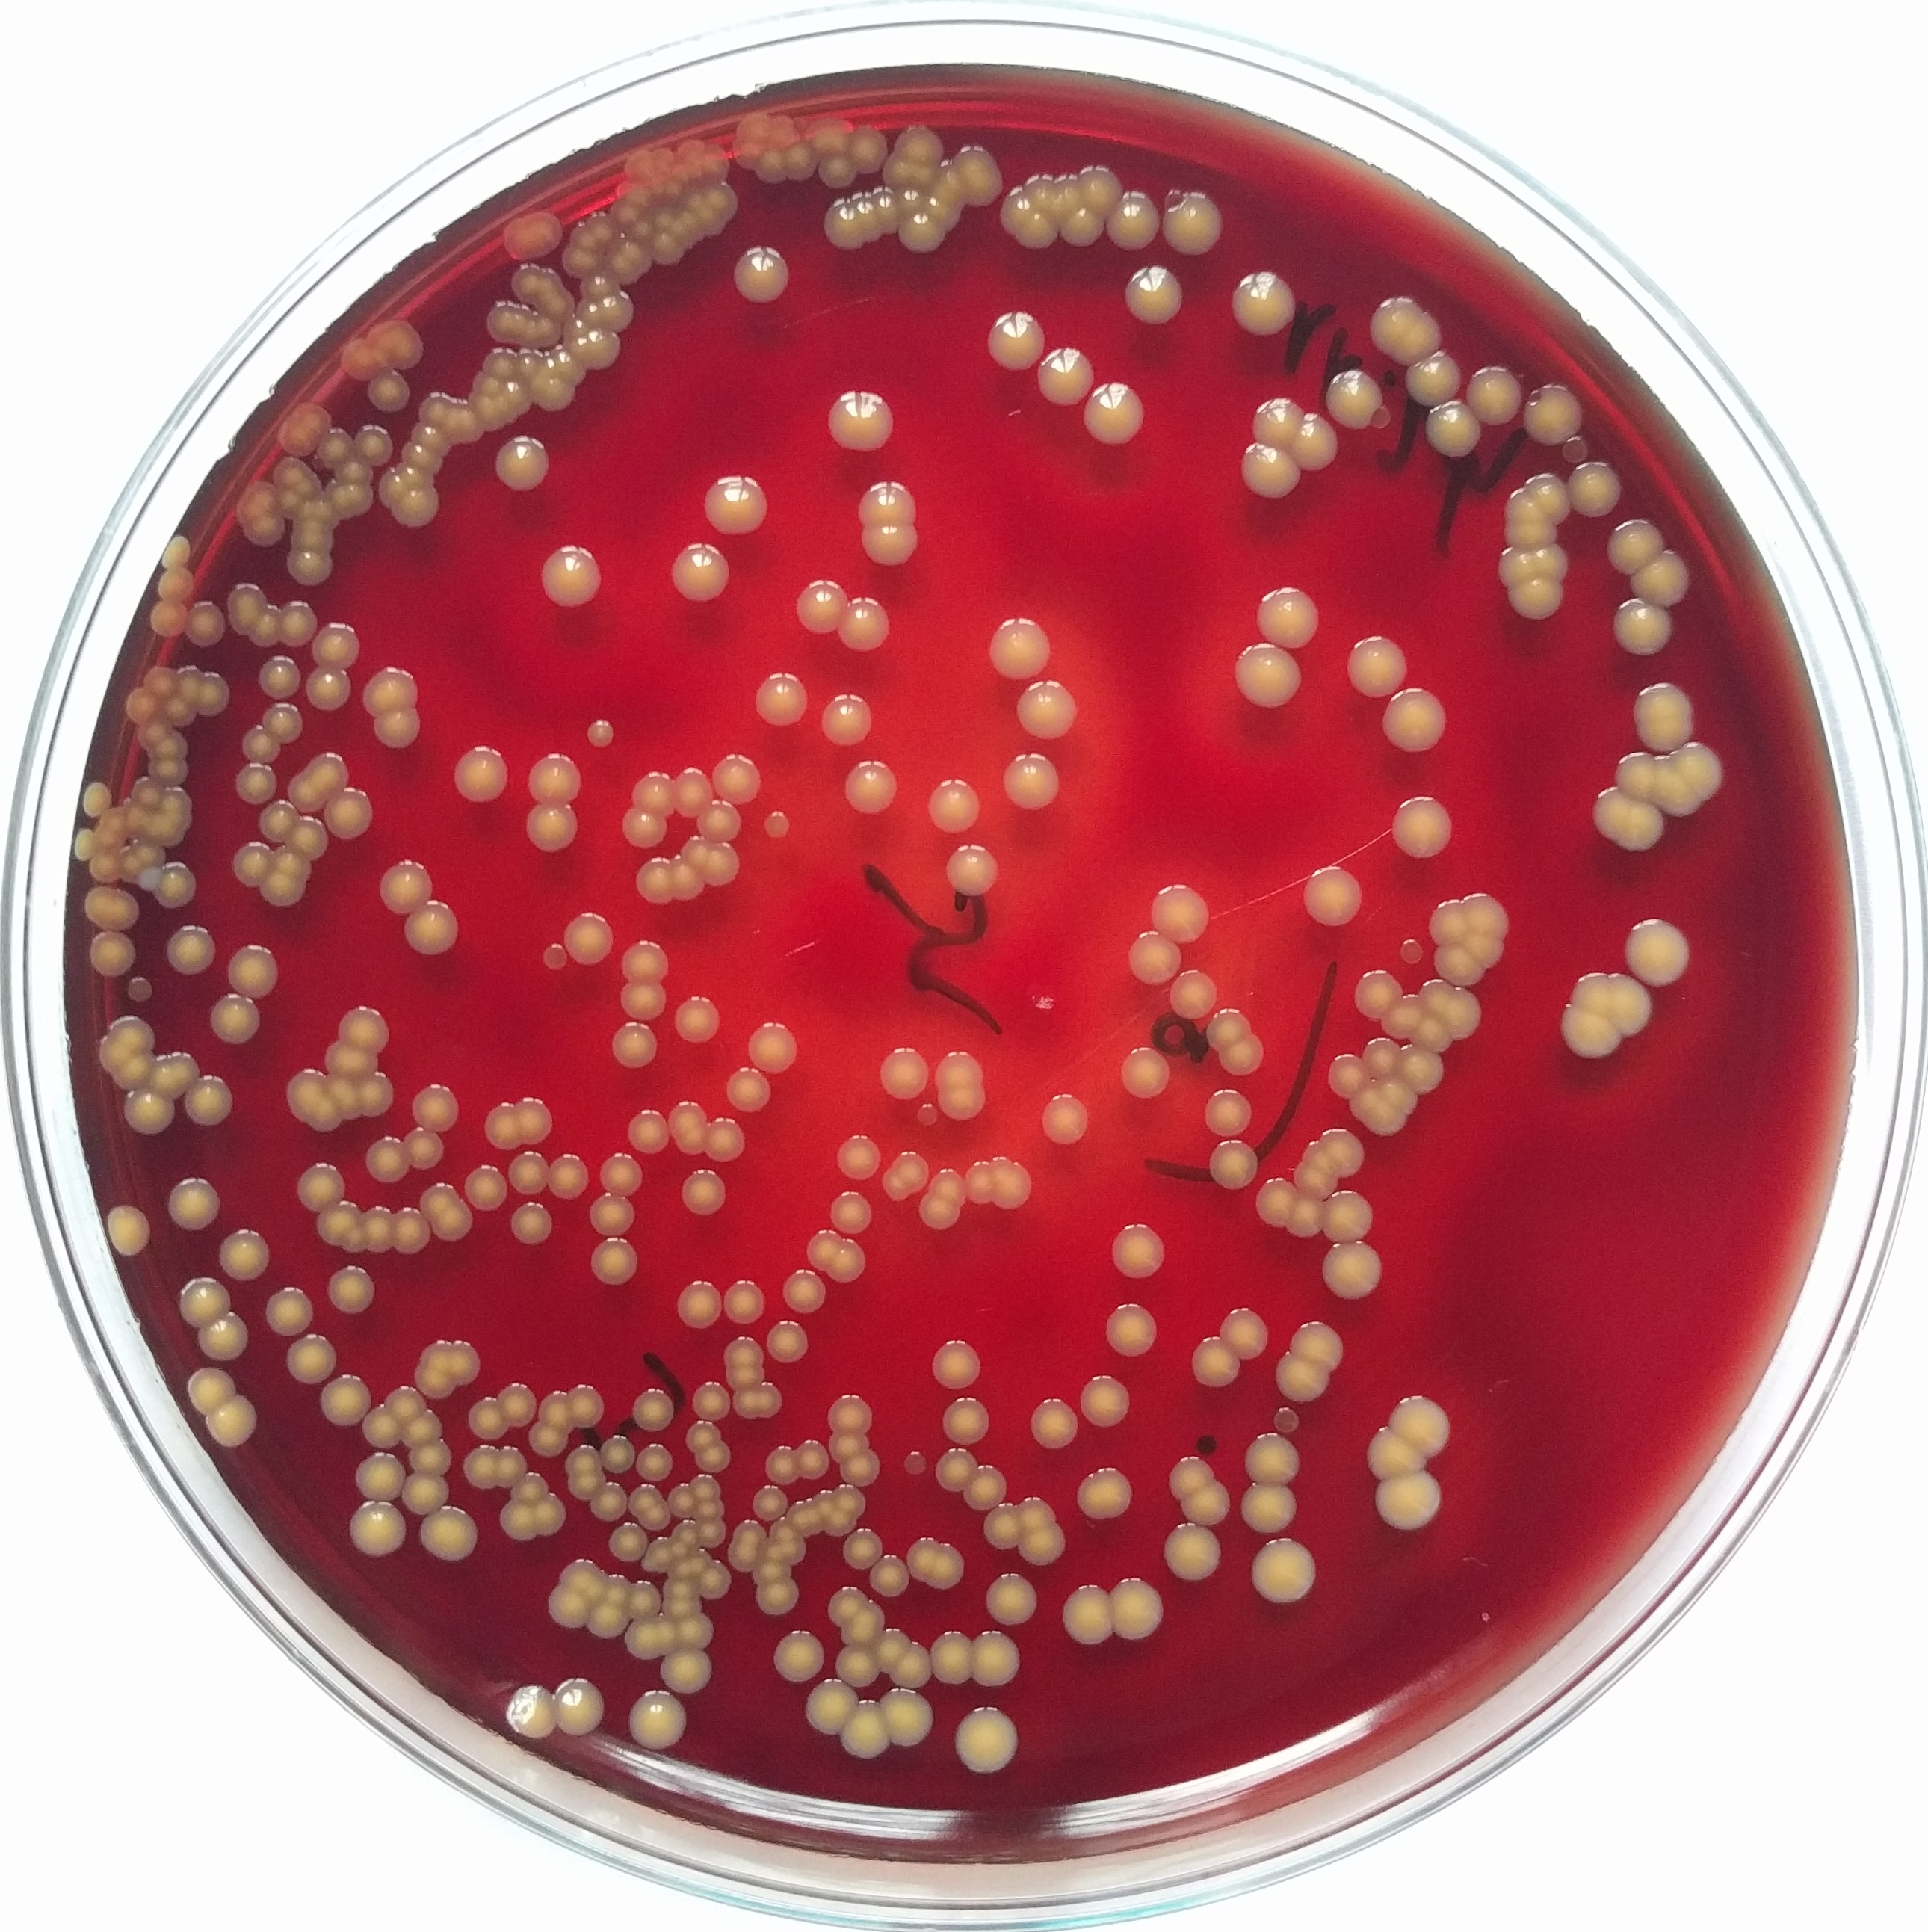sp21: (1386, 784, 1471, 867), (1243, 1529, 1329, 1611), (1227, 258, 1307, 346), (1370, 678, 1453, 759), (1367, 290, 1453, 367), (1624, 909, 1698, 994), (411, 1501, 496, 1575), (1340, 629, 1420, 706), (1370, 1462, 1448, 1542), (1227, 636, 1307, 712), (1103, 1565, 1174, 1649), (1552, 1000, 1631, 1074), (1008, 673, 1089, 745), (1630, 675, 1700, 758), (530, 546, 613, 616), (950, 1697, 1022, 1777), (828, 380, 900, 457), (699, 470, 777, 542), (983, 608, 1061, 680), (1257, 577, 1328, 653), (1144, 879, 1220, 950), (1158, 182, 1227, 260), (1305, 853, 1374, 931), (1420, 390, 1487, 470), (1102, 1219, 1176, 1289), (1322, 358, 1391, 434), (1319, 1233, 1395, 1302), (999, 745, 1070, 818), (1520, 376, 1589, 450), (1388, 1385, 1457, 1459), (1158, 1519, 1232, 1586), (627, 1687, 701, 1754), (1081, 376, 1144, 454), (660, 546, 740, 608), (1096, 1294, 1165, 1365), (556, 904, 623, 977), (985, 298, 1047, 376), (1118, 263, 1188, 330), (1603, 509, 1670, 579), (1607, 593, 1677, 660), (494, 1679, 565, 1747), (1098, 180, 1164, 253), (1241, 434, 1305, 509), (1058, 1579, 1119, 1655), (1563, 452, 1630, 521), (939, 837, 1006, 906), (1241, 385, 1307, 456), (1268, 1347, 1338, 1413), (745, 669, 816, 735), (876, 1685, 939, 1757), (341, 1498, 415, 1559), (362, 314, 440, 373), (1368, 1420, 1435, 1487), (729, 240, 795, 309), (1398, 341, 1467, 406), (450, 736, 514, 807), (1285, 1312, 1359, 1372), (394, 901, 468, 961), (1033, 1086, 1100, 1151), (1624, 546, 1693, 609), (922, 766, 985, 835), (1118, 925, 1188, 987), (1610, 968, 1668, 1042), (371, 858, 445, 917), (1204, 1132, 1271, 1196), (1241, 1427, 1308, 1491), (814, 691, 881, 754), (547, 1671, 607, 1741), (800, 1669, 858, 1741), (844, 751, 902, 823), (267, 403, 343, 457), (1462, 362, 1527, 426), (493, 431, 554, 498), (1073, 1464, 1141, 1526), (1111, 1042, 1181, 1100), (745, 1014, 803, 1084), (1031, 346, 1096, 408), (980, 1566, 1042, 1632), (177, 1070, 242, 1132), (222, 943, 288, 1005), (851, 516, 927, 569), (1504, 567, 1573, 625), (1646, 751, 1704, 819), (316, 784, 385, 842), (355, 666, 427, 721), (1073, 1369, 1135, 1432), (1345, 1084, 1412, 1143), (837, 1694, 893, 1762), (1621, 784, 1670, 862), (1238, 1475, 1299, 1536), (521, 796, 584, 857), (166, 1169, 226, 1233), (1287, 408, 1345, 473), (1315, 1123, 1381, 1181), (1197, 1084, 1264, 1141), (969, 1625, 1024, 1694), (957, 140, 1010, 210), (853, 473, 923, 526), (789, 576, 849, 638), (261, 1282, 321, 1344), (985, 1150, 1043, 1213), (201, 1393, 265, 1452), (334, 1000, 399, 1056), (1674, 735, 1727, 804), (1585, 777, 1637, 848), (155, 927, 226, 978), (171, 1270, 233, 1328), (1028, 1393, 1084, 1457), (189, 1310, 252, 1367), (501, 207, 567, 261), (524, 745, 579, 811), (772, 1625, 830, 1685), (282, 1332, 343, 1390), (1455, 881, 1517, 938), (1216, 1302, 1273, 1363), (607, 1015, 669, 1072), (214, 1227, 275, 1284), (311, 1370, 374, 1425), (300, 622, 369, 671), (1188, 1333, 1246, 1392), (1568, 962, 1624, 1023), (1428, 938, 1490, 992), (1354, 961, 1409, 1023), (198, 991, 263, 1042), (839, 595, 897, 652), (1393, 1037, 1451, 1093), (1165, 962, 1222, 1021), (101, 1203, 159, 1259), (930, 1332, 985, 1392), (457, 1158, 512, 1219), (79, 885, 148, 932), (930, 1443, 983, 1505), (927, 1626, 980, 1688), (657, 1641, 719, 1694), (1321, 1185, 1372, 1249), (320, 1040, 390, 1086), (929, 1042, 994, 1091), (1495, 510, 1563, 558), (1439, 978, 1487, 1045), (404, 1077, 461, 1134), (823, 1181, 881, 1236), (708, 745, 763, 804), (348, 1448, 406, 1503), (291, 1157, 350, 1211), (1614, 745, 1665, 807), (556, 1551, 611, 1607), (120, 1084, 177, 1139), (147, 1047, 201, 1104), (881, 1042, 934, 1100), (623, 1102, 676, 1160), (175, 599, 233, 652), (591, 1231, 643, 1291), (184, 1362, 244, 1413), (817, 1386, 879, 1436), (1252, 1173, 1299, 1236), (297, 668, 360, 715), (939, 1397, 994, 1452), (678, 1166, 733, 1220), (355, 1128, 410, 1183), (1072, 157, 1125, 214), (671, 1277, 724, 1333), (618, 934, 671, 991), (1167, 1450, 1218, 1508), (281, 1061, 332, 1120), (394, 1466, 454, 1515), (1372, 1065, 1427, 1118), (883, 1635, 936, 1690), (833, 1639, 886, 1694), (325, 1261, 380, 1314), (720, 1061, 777, 1113), (613, 798, 669, 849), (214, 583, 265, 639), (367, 708, 433, 752), (666, 1100, 715, 1158), (85, 929, 143, 978), (508, 1088, 556, 1148), (662, 848, 704, 915), (507, 1197, 560, 1250), (699, 841, 750, 895), (1377, 980, 1427, 1037), (629, 855, 678, 911), (233, 724, 291, 772), (1462, 920, 1515, 971), (865, 1549, 918, 1600), (673, 992, 724, 1045), (625, 1614, 678, 1665), (187, 671, 238, 724), (1321, 1049, 1370, 1104), (833, 1128, 883, 1183), (779, 1261, 828, 1316), (588, 1187, 637, 1241), (542, 1148, 591, 1203), (692, 795, 747, 844), (722, 1519, 770, 1575), (540, 1582, 599, 1628), (230, 765, 288, 811), (1497, 486, 1557, 530), (706, 1111, 750, 1171), (960, 1462, 1012, 1513), (272, 597, 323, 648), (761, 1317, 814, 1367), (627, 1379, 676, 1432), (360, 1402, 410, 1455), (978, 1499, 1026, 1554), (667, 763, 715, 818), (519, 1416, 574, 1464), (222, 842, 277, 890), (147, 865, 203, 911), (277, 546, 337, 588), (570, 325, 621, 374), (1010, 205, 1061, 254), (507, 1148, 556, 1199), (893, 120, 946, 168), (1017, 1522, 1072, 1568), (478, 1102, 524, 1157), (304, 751, 358, 796), (254, 699, 309, 745), (828, 1236, 872, 1293), (819, 191, 862, 249), (1524, 470, 1571, 521), (1204, 1000, 1255, 1047), (357, 369, 417, 410), (1181, 1480, 1234, 1526), (842, 1521, 888, 1574), (867, 1619, 911, 1674), (395, 1407, 450, 1452), (256, 655, 311, 699), (388, 489, 450, 528), (1412, 968, 1455, 1024), (934, 1084, 992, 1125), (1063, 203, 1111, 253), (1490, 540, 1538, 590), (839, 1600, 886, 1649), (761, 1441, 809, 1491), (621, 977, 669, 1026), (671, 1612, 720, 1660), (463, 1393, 510, 1443), (426, 1203, 473, 1252), (1425, 895, 1471, 947), (795, 1434, 840, 1485), (494, 1376, 540, 1427), (330, 339, 381, 385), (844, 120, 888, 173), (964, 1158, 1008, 1211), (733, 1377, 786, 1422), (281, 818, 334, 862), (388, 1204, 431, 1259), (752, 140, 793, 196), (775, 136, 823, 184), (720, 1275, 768, 1323), (602, 1519, 650, 1566), (1409, 1010, 1458, 1056), (1359, 1033, 1409, 1079), (1220, 1031, 1269, 1077), (599, 1144, 644, 1194), (456, 1439, 501, 1489), (314, 1197, 360, 1247), (593, 293, 643, 339), (394, 436, 452, 475), (927, 1538, 969, 1591), (583, 1596, 636, 1639), (531, 1489, 574, 1542), (408, 1360, 461, 1402), (256, 872, 309, 915), (1291, 1137, 1345, 1178), (1289, 1158, 1344, 1199), (803, 1224, 847, 1273), (445, 1333, 489, 1383), (916, 1190, 968, 1233), (265, 842, 318, 883), (101, 1010, 155, 1049), (807, 113, 853, 159), (350, 422, 395, 468), (826, 1581, 870, 1628), (535, 1386, 583, 1430), (92, 1026, 139, 1070), (1285, 1185, 1322, 1241), (687, 1376, 729, 1425), (618, 1572, 667, 1614), (567, 1379, 609, 1429), (399, 1125, 448, 1167), (252, 800, 302, 842), (902, 1533, 943, 1584), (752, 1577, 803, 1618), (1529, 539, 1573, 585), (929, 1164, 975, 1208), (1010, 1494, 1056, 1538), (629, 766, 673, 812), (660, 1480, 706, 1524), (595, 1429, 639, 1475), (242, 606, 288, 650), (448, 399, 491, 447), (847, 187, 883, 244), (998, 184, 1036, 235), (69, 779, 120, 818), (731, 101, 775, 145), (840, 1446, 885, 1491), (1020, 170, 1063, 215), (590, 1480, 632, 1526), (563, 1464, 611, 1505), (157, 691, 207, 729), (764, 104, 809, 147), (750, 1480, 793, 1524), (899, 212, 939, 258), (870, 1160, 911, 1206), (282, 772, 328, 812), (814, 147, 862, 185), (304, 1091, 343, 1139), (360, 1203, 394, 1257), (404, 1441, 454, 1478), (358, 1072, 395, 1121), (636, 1439, 678, 1482), (311, 426, 355, 466), (920, 187, 959, 233), (576, 270, 629, 304), (828, 1425, 876, 1462), (473, 348, 521, 385), (892, 1150, 934, 1190), (673, 826, 715, 867), (494, 1499, 535, 1542), (885, 150, 936, 184), (697, 1558, 736, 1602), (417, 1178, 461, 1217), (154, 565, 198, 604), (147, 599, 191, 638), (494, 1443, 531, 1489), (867, 180, 897, 237), (554, 244, 604, 277), (692, 1434, 733, 1475), (413, 1337, 456, 1376), (1052, 170, 1088, 215), (659, 1591, 706, 1625), (134, 668, 187, 698), (1393, 931, 1432, 971), (830, 1478, 870, 1517), (169, 664, 210, 703), (369, 466, 410, 505), (410, 392, 450, 431), (678, 1413, 720, 1450), (632, 1498, 676, 1533), (268, 456, 313, 491), (505, 261, 540, 306), (719, 1330, 764, 1363), (120, 687, 166, 721), (242, 512, 288, 546), (726, 131, 764, 170), (385, 1385, 422, 1425), (508, 1468, 551, 1503), (120, 971, 162, 1007), (560, 1441, 604, 1475), (406, 420, 452, 452), (328, 456, 374, 487), (535, 932, 574, 970), (136, 717, 175, 754), (478, 302, 516, 341), (471, 387, 507, 427), (579, 715, 620, 751), (131, 835, 173, 869), (583, 207, 620, 244), (752, 1552, 793, 1586), (563, 224, 604, 258), (560, 343, 586, 394), (288, 530, 343, 555), (147, 754, 191, 784), (757, 804, 793, 841), (268, 482, 305, 517), (569, 293, 606, 328), (621, 240, 655, 279), (692, 1494, 726, 1533), (627, 1480, 666, 1513), (508, 346, 547, 380), (127, 775, 168, 807), (604, 196, 644, 228), (155, 540, 198, 570), (886, 180, 923, 214), (83, 851, 122, 883), (904, 1098, 946, 1127), (147, 733, 189, 761), (538, 380, 574, 413), (690, 1471, 726, 1505), (660, 1572, 699, 1602), (819, 1506, 853, 1540), (505, 376, 531, 419), (653, 230, 682, 268), (604, 249, 632, 288), (902, 1445, 930, 1482), (726, 1360, 764, 1386), (644, 1535, 676, 1566), (671, 1521, 703, 1552), (703, 184, 740, 210), (616, 178, 651, 205), (538, 284, 569, 314), (764, 1515, 795, 1545), (662, 1536, 692, 1566), (471, 371, 503, 399), (703, 147, 729, 180), (293, 470, 327, 496), (516, 311, 540, 346), (621, 148, 651, 177), (341, 1229, 369, 1259), (696, 1519, 726, 1545), (540, 350, 561, 387), (701, 208, 727, 237), (676, 138, 706, 162), (537, 263, 561, 293), (117, 848, 141, 876), (538, 314, 563, 341), (671, 217, 692, 247), (680, 210, 701, 238), (651, 147, 673, 170), (514, 307, 526, 344), (632, 219, 651, 240), (666, 180, 685, 200), (569, 314, 590, 332), (655, 208, 671, 228), (685, 189, 699, 210)
